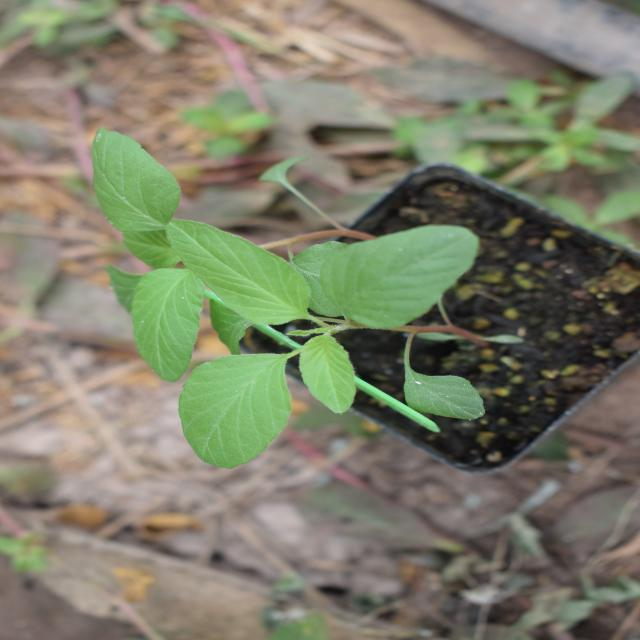pigweed: (159, 162, 447, 484)
